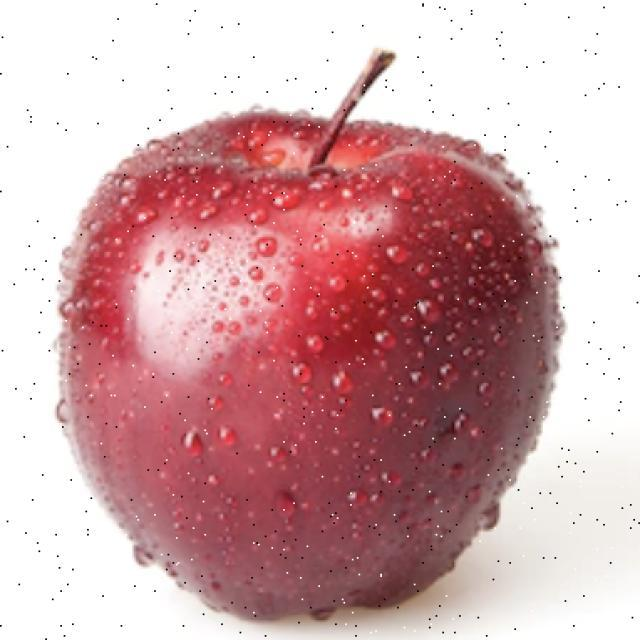Apple: (54, 48, 565, 621)
